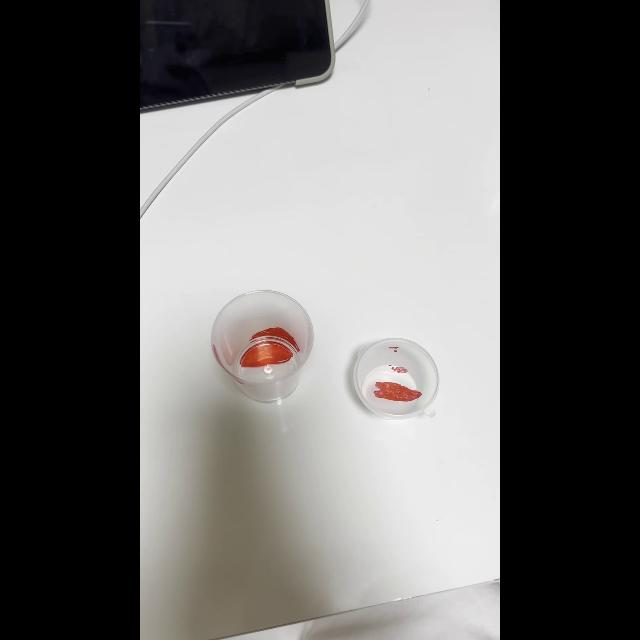dirty: (215, 287, 318, 399), (348, 326, 442, 429)
